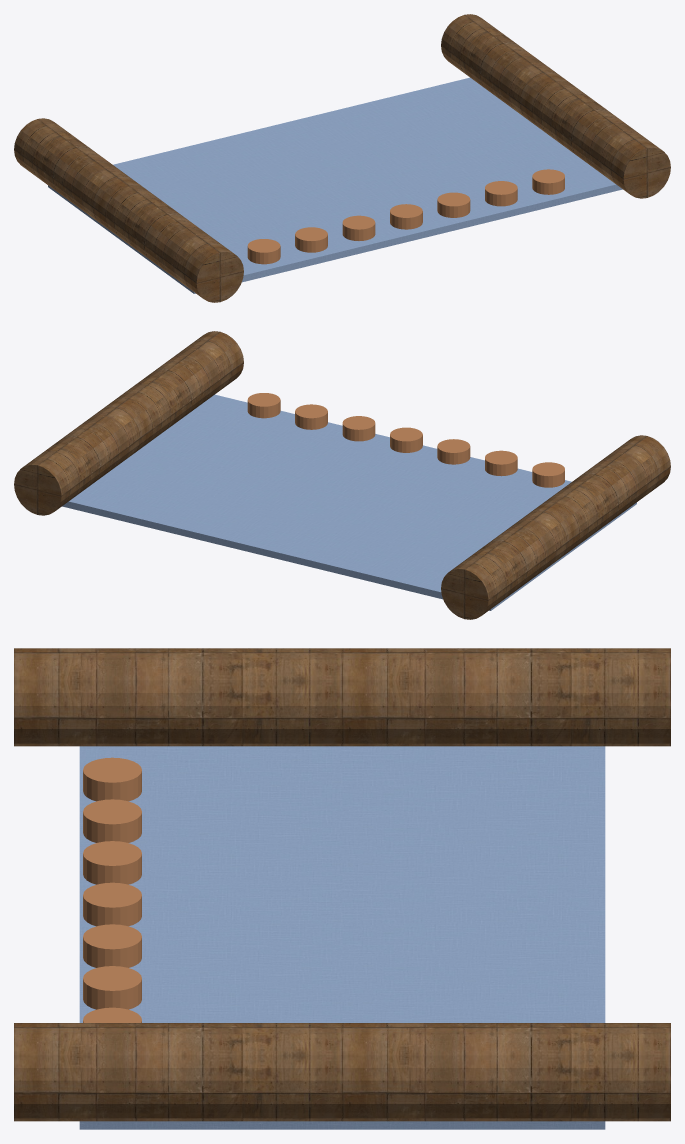
The model's file is sete_selos.glb.
3 renders of one model, top to bottom at view 1: azimuth 30°, elevation 25°; view 2: azimuth 150°, elevation 25°; view 3: azimuth 270°, elevation 25°, orthographic. The views are drawn at different scales.
Parts seen in each view (by area): view 1: Superfície de escrita, Rolo, Rolo.001, Selo de número 1, Selo de número 5, Selo de número 3, Selo de número 2, Selo de número 4, Selo de número 6, Selo de número 7; view 2: Superfície de escrita, Rolo, Rolo.001, Selo de número 5, Selo de número 3, Selo de número 7, Selo de número 6, Selo de número 1, Selo de número 4, Selo de número 2; view 3: Superfície de escrita, Rolo, Rolo.001, Selo de número 2, Selo de número 5, Selo de número 3, Selo de número 1, Selo de número 4, Selo de número 6, Selo de número 7.
Boxes of the visible parts, <box> form: Superfície de escrita: <box>48,77,622,293</box>; Rolo: <box>14,118,243,302</box>; Rolo.001: <box>441,14,670,198</box>; Selo de número 1: <box>247,239,280,264</box>; Selo de número 5: <box>437,192,470,217</box>; Selo de número 3: <box>342,215,375,240</box>; Selo de número 2: <box>295,227,327,252</box>; Selo de número 4: <box>390,204,422,229</box>; Selo de número 6: <box>485,181,517,206</box>; Selo de número 7: <box>532,169,564,194</box>; Superfície de escrita: <box>62,394,636,610</box>; Rolo: <box>441,435,670,619</box>; Rolo.001: <box>14,331,243,515</box>; Selo de número 5: <box>342,416,375,441</box>; Selo de número 3: <box>437,439,470,464</box>; Selo de número 7: <box>247,393,280,418</box>; Selo de número 6: <box>295,404,327,429</box>; Selo de número 1: <box>532,462,564,487</box>; Selo de número 4: <box>390,427,422,452</box>; Selo de número 2: <box>485,450,517,476</box>; Superfície de escrita: <box>79,746,605,1129</box>; Rolo: <box>14,648,670,746</box>; Rolo.001: <box>14,1023,670,1121</box>; Selo de número 2: <box>83,799,141,842</box>; Selo de número 5: <box>83,924,141,967</box>; Selo de número 3: <box>83,841,141,884</box>; Selo de número 1: <box>83,757,141,801</box>; Selo de número 4: <box>83,882,141,926</box>; Selo de número 6: <box>83,966,141,1009</box>; Selo de número 7: <box>83,1007,141,1022</box>.
Bounding box in the file's own units: 3 × 0.32 × 2.
3 materials, 2 textured.
